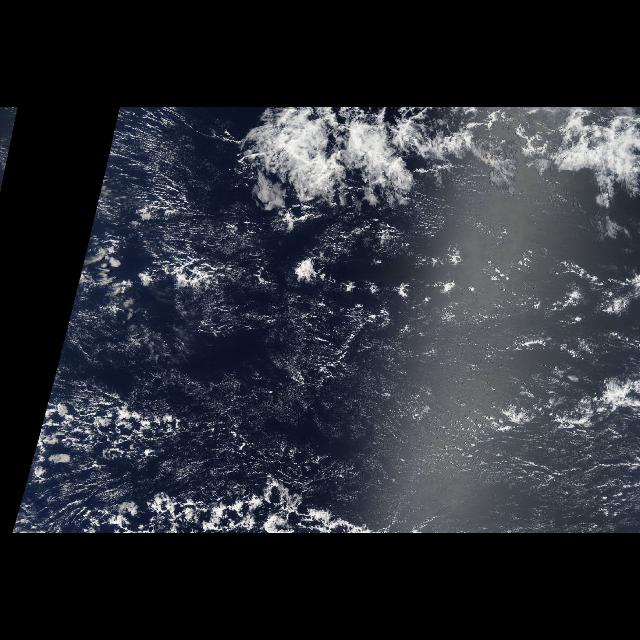Gravel: (50, 213, 634, 532)
Sugar: (84, 237, 632, 533)
